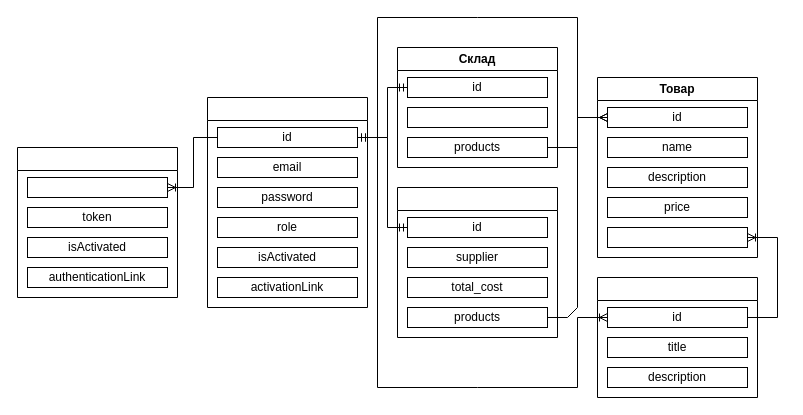
Image size: 803x415. Some labels were removed from this diagram. The shapes that lost their labels are listed below. From the top down, each one's box as (x1, y1, x2, y2) in pixels, then its label:
(406, 106, 548, 128): capacity
(26, 176, 168, 198): user_id
(206, 96, 368, 308): Пользователь
(16, 146, 178, 298): Сессия
(606, 226, 748, 248): category_id
(396, 186, 558, 338): Система закупок
(596, 276, 758, 398): Категория
